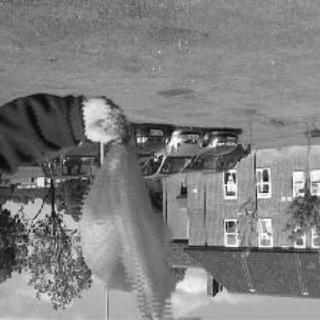other: (69, 132, 180, 320)
